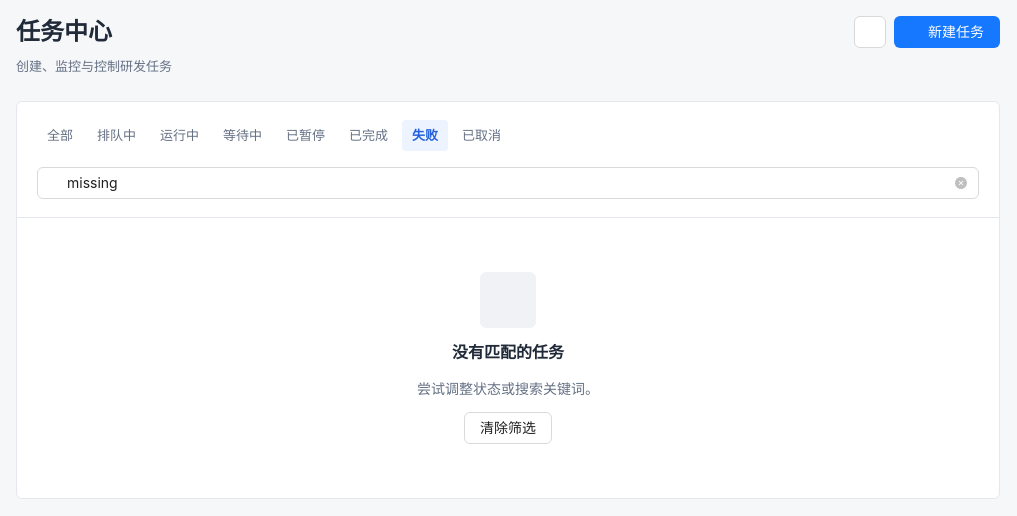
Scenario: 创建与控制交互 › 空数据与 URL 筛选区别
Expected: the heading "没有匹配的任务" is shown, x1=452 y1=340 x2=564 y2=366
Click the button "清除筛选" at (508, 428), box x1=464 y1=412 x2=552 y2=444
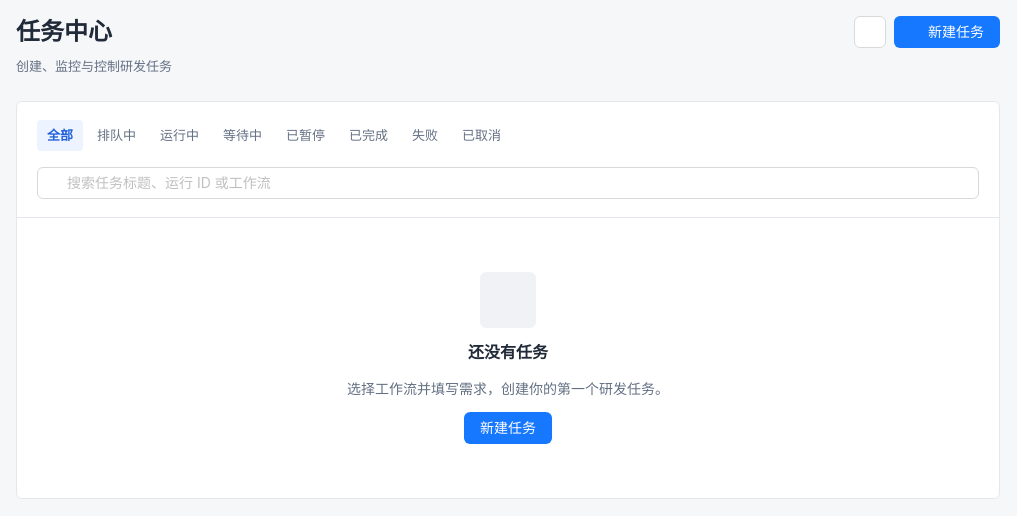
Expected: the heading "还没有任务" is shown, x1=468 y1=340 x2=548 y2=366
